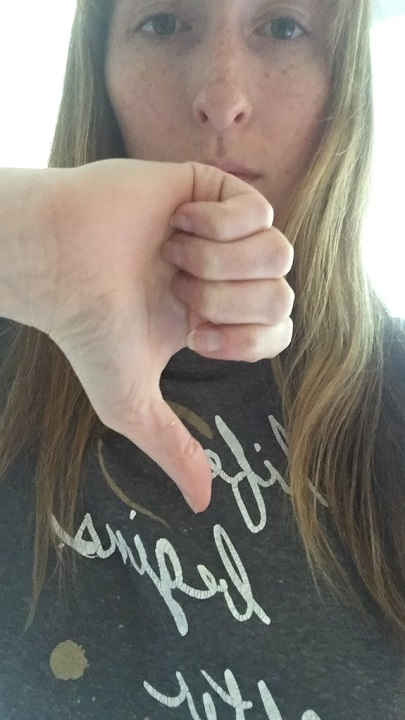defaultd: (52, 159, 296, 515)
